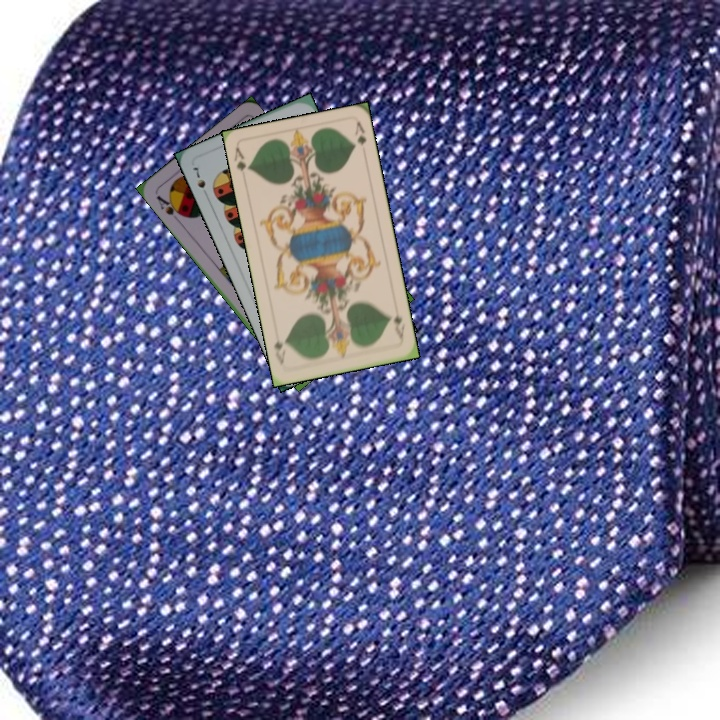GA: (389, 304, 408, 344), (230, 143, 253, 174)
S7: (189, 163, 211, 200)
SA: (152, 191, 187, 220)
